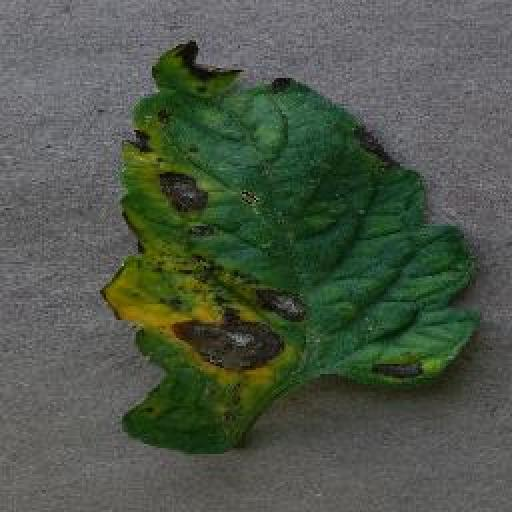disease_tomato: (104, 37, 480, 451)
